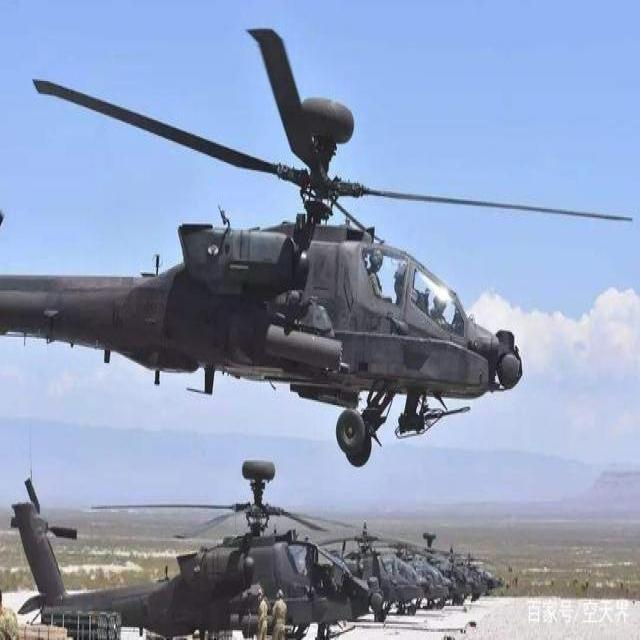MIL_HELO: (0, 28, 631, 465), (4, 449, 381, 640)
